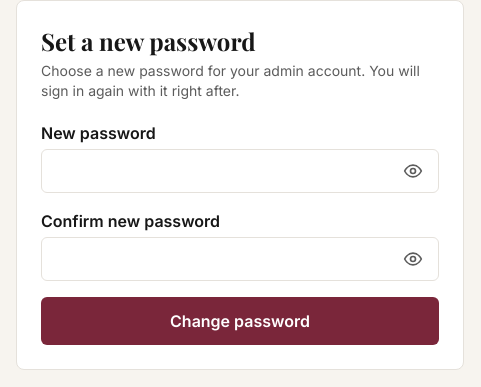
it: ResetPasswordForm › shows and hides each password field with its own eye toggle
The image size is (481, 387).
Type "secret-123" into the password field labelled "New password" at (240, 171), box [41, 149, 439, 193]
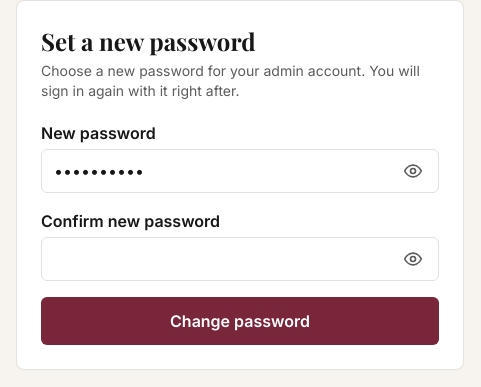
Click the button named "Show new password" at (413, 171), box [391, 149, 435, 193]
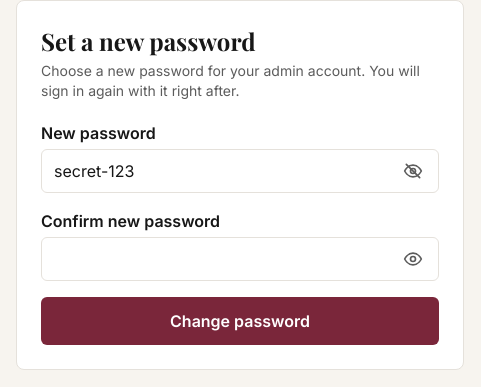
Check: the field labelled "New password" shows its text, box [41, 149, 439, 193]
Check: the button named "Hide new password" is shown
Click the button named "Hide new password" at (413, 171), box [391, 149, 435, 193]
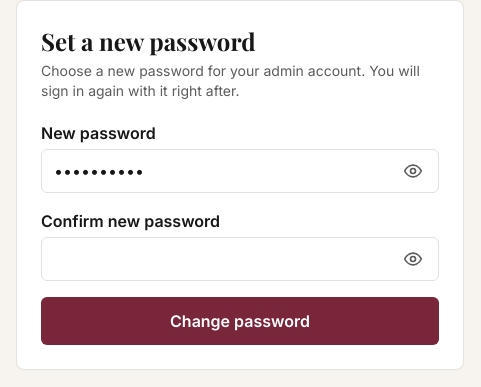
Check: the password field labelled "New password" hides its text, box [41, 149, 439, 193]
